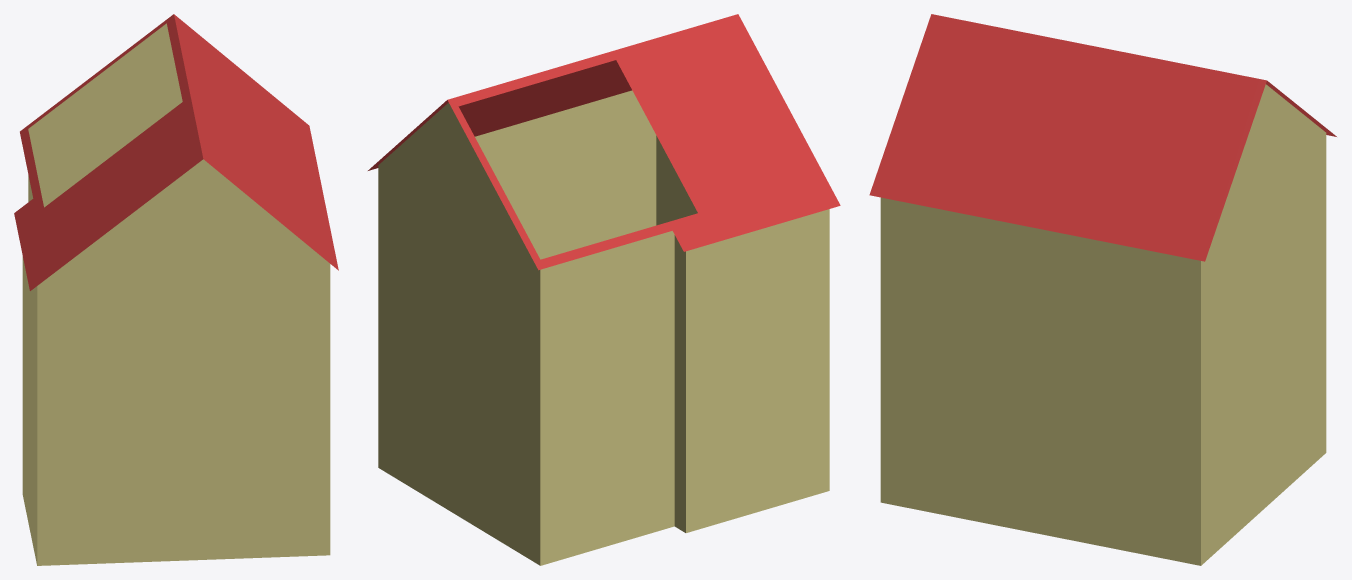
The picture shows the model from 3 angles, left to right: view 1: azimuth 30°, elevation 25°; view 2: azimuth 150°, elevation 25°; view 3: azimuth 270°, elevation 25°; orthographic projection. The views are drawn at different scales.
Size of the model in its own units: 13.59 by 13.86 by 14.18.
